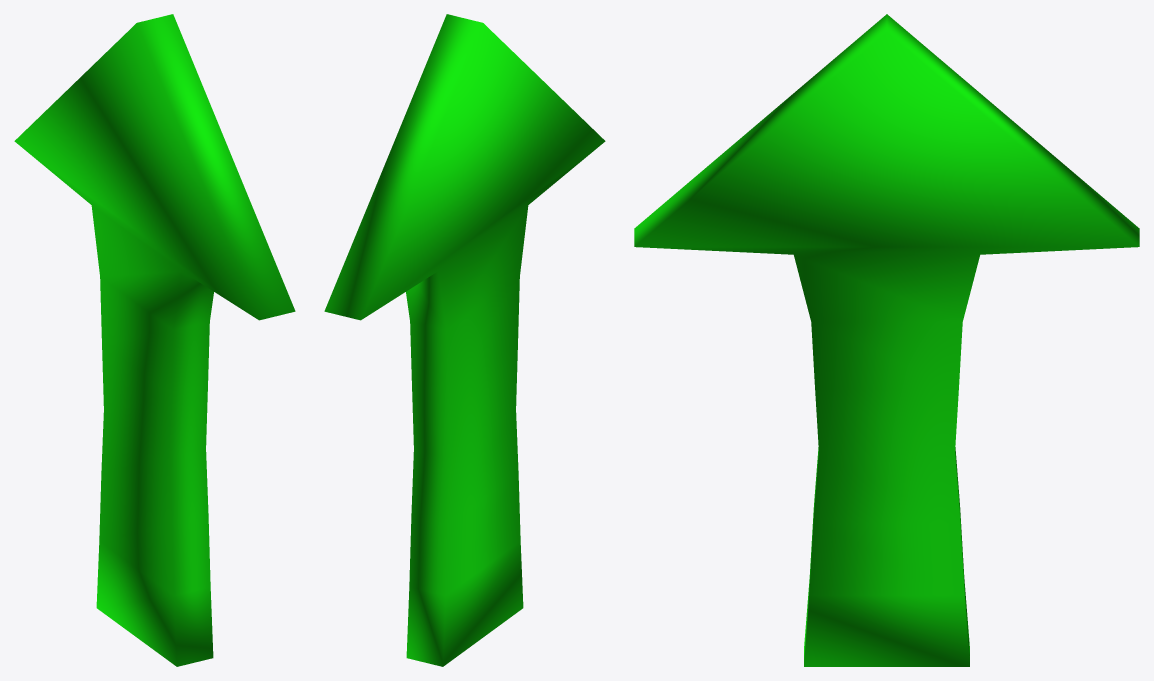
Rendered from pfeil.glb.
3 views of the same model, side by side, from view 1: azimuth 30°, elevation 25°; view 2: azimuth 150°, elevation 25°; view 3: azimuth 270°, elevation 25° (orthographic). The views are drawn at different scales.
Parts seen in each view (by area): view 1: pfeil; view 2: pfeil; view 3: pfeil.
Boxes of the visible parts, box(x1,y1,x2,y2) form: pfeil: box(14, 14, 295, 666); pfeil: box(324, 14, 605, 666); pfeil: box(634, 14, 1139, 666).
Size of the model in its own units: 0.11 by 1.77 by 1.28.
